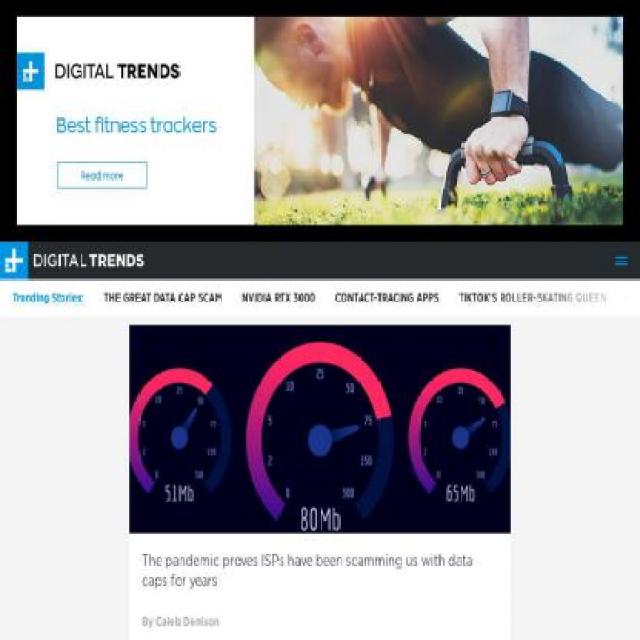button: (0, 242, 145, 280), (607, 242, 635, 280)
